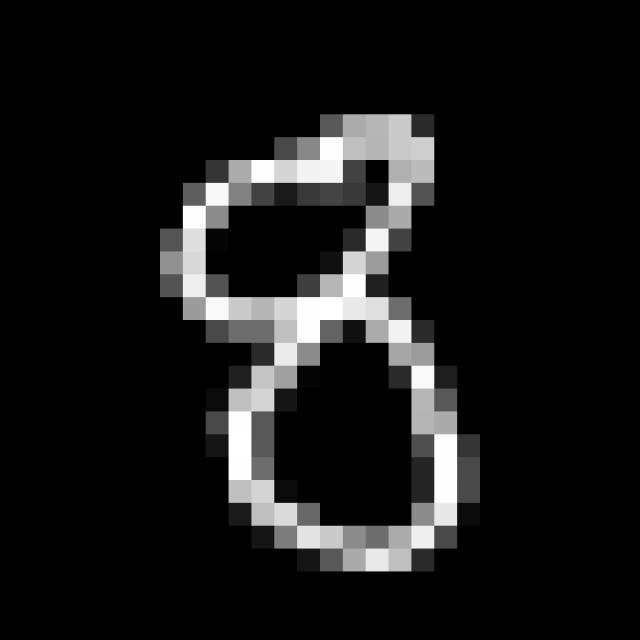eight -8-: (158, 108, 480, 579)
